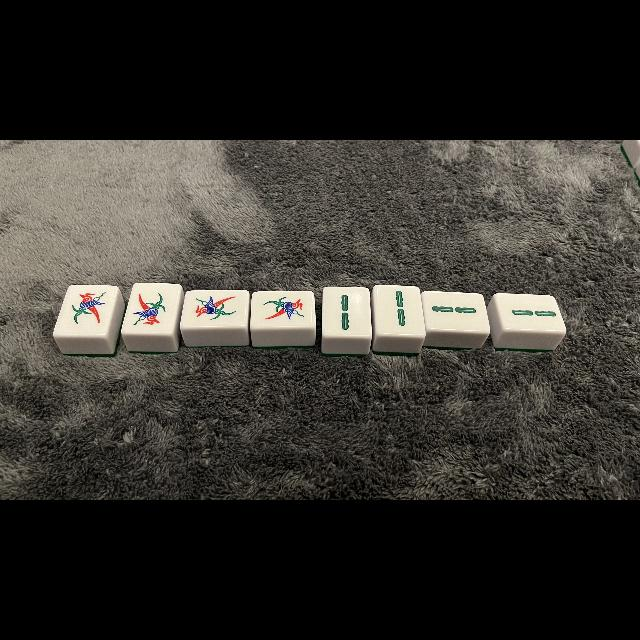b1: (60, 286, 111, 334), (128, 284, 176, 332), (252, 292, 312, 326), (184, 292, 246, 324)
b2: (425, 292, 487, 330), (375, 285, 423, 333), (498, 294, 560, 330), (324, 287, 368, 335)
